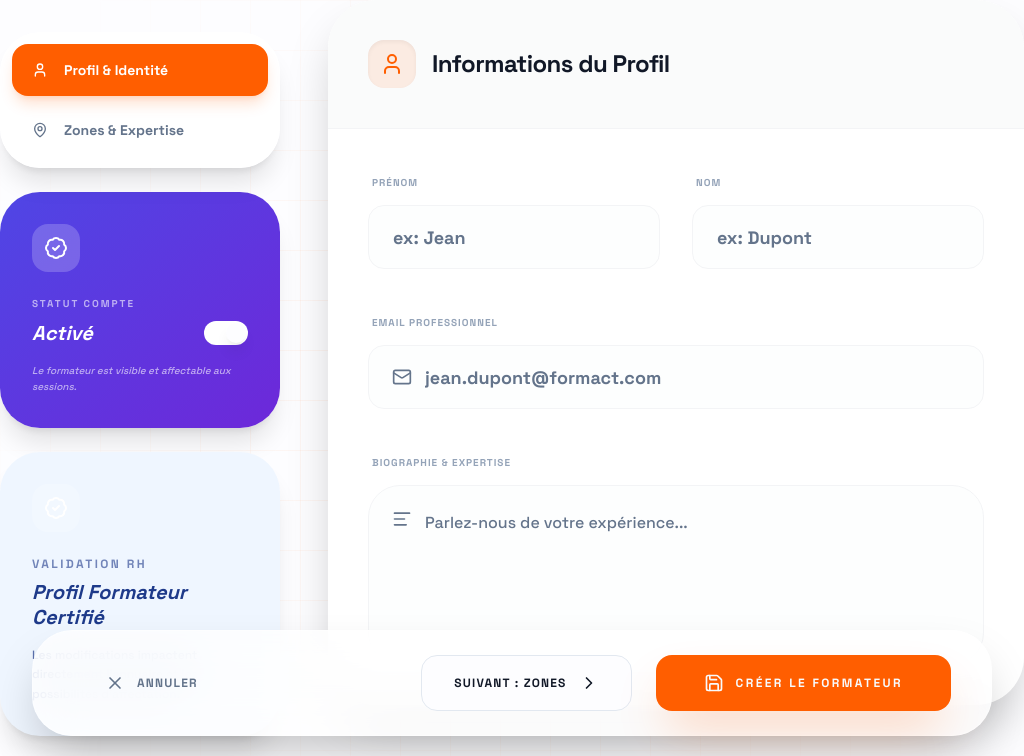
Scenario: TrainerForm › handles submission error from API
In the field labelled "Prénom": (514, 237) [368,205,660,269], type "John"
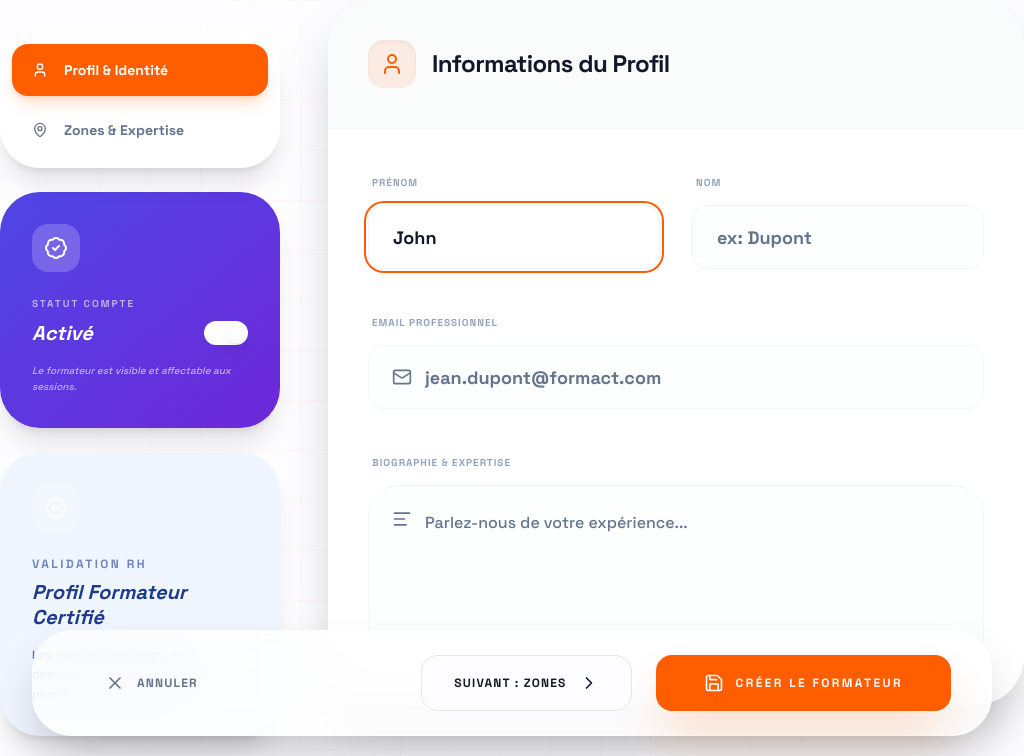
In the field labelled "Nom": (838, 237) [692,205,984,269], type "Doe"
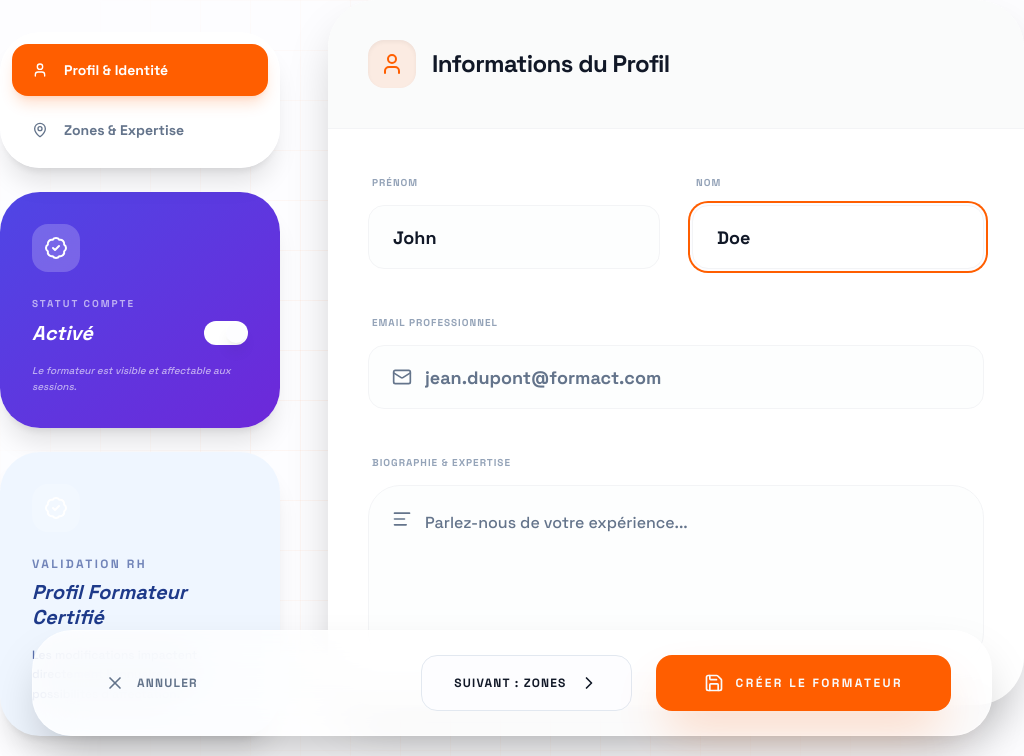
In the field labelled "Email Professionnel": (676, 377) [368,345,984,409], type "john@doe.com"
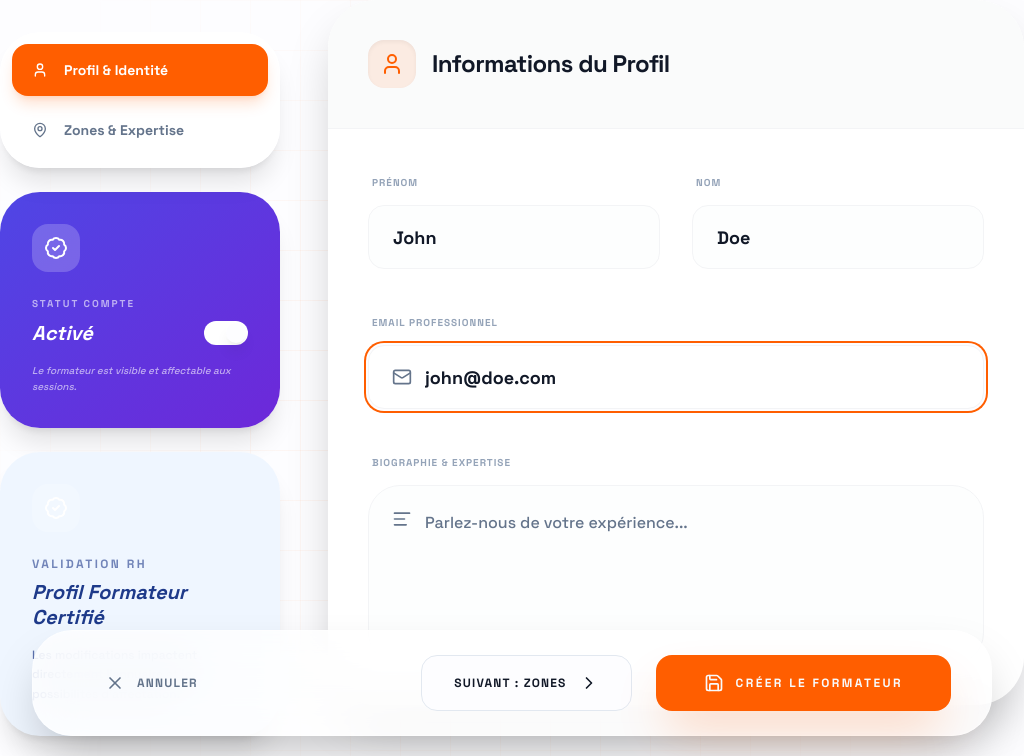
Click the button "Créer le formateur": (803, 683) [656,655,951,711]
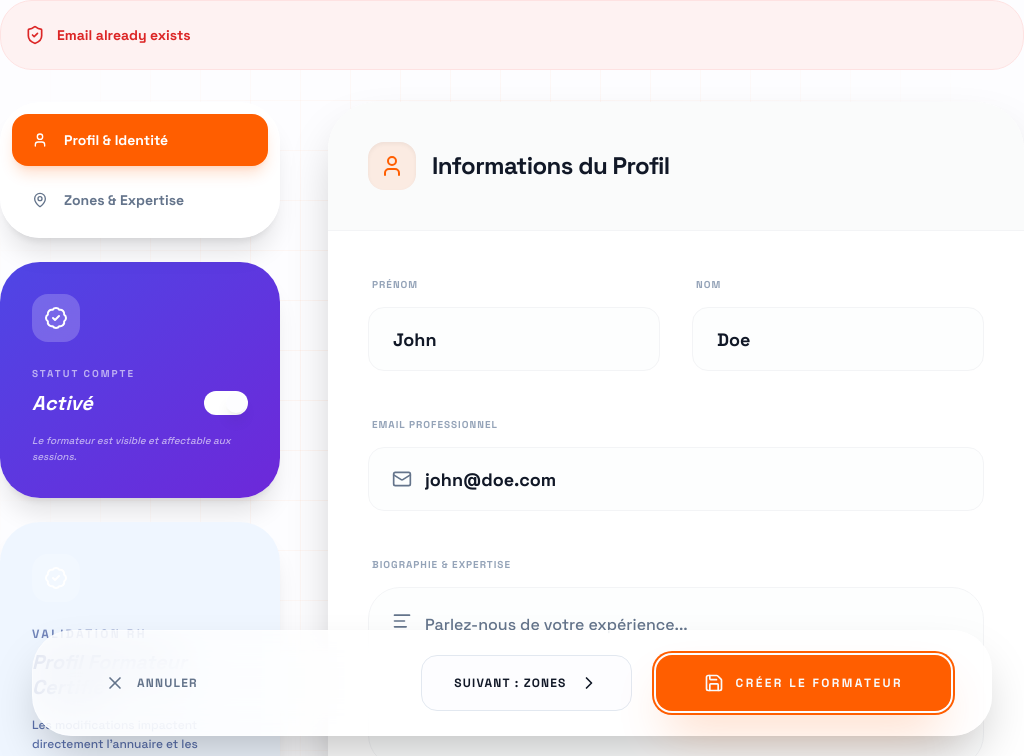
Check: the text "Email already exists" is shown, box [0,0,1023,70]
